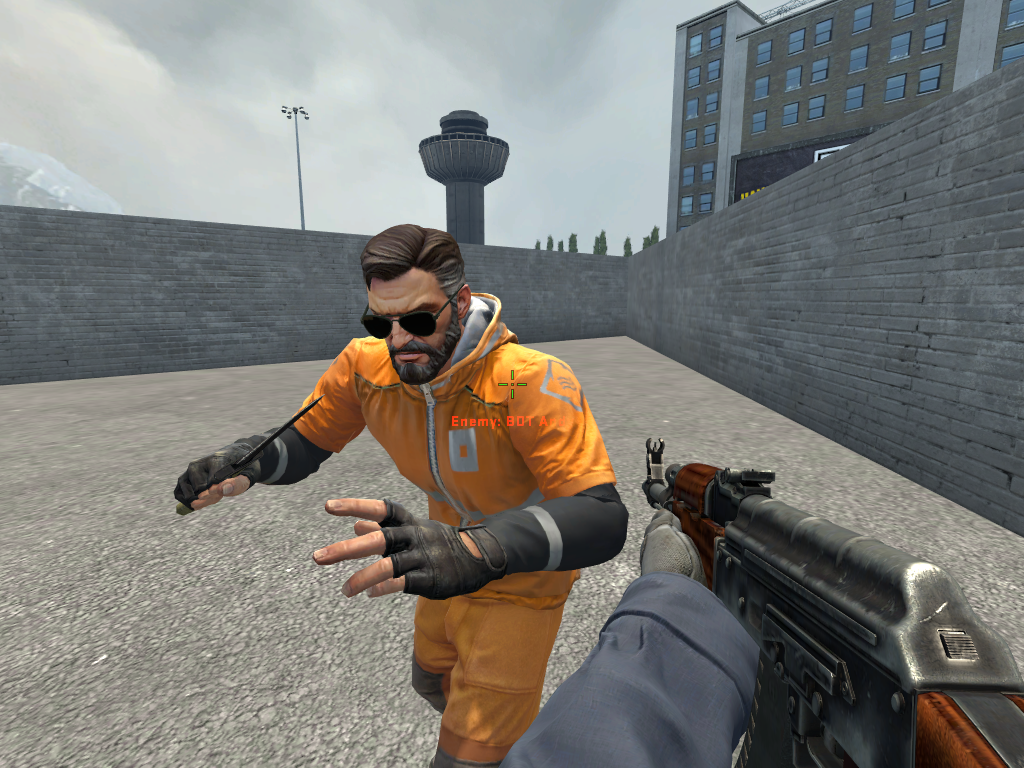tr head: (356, 221, 474, 389)
